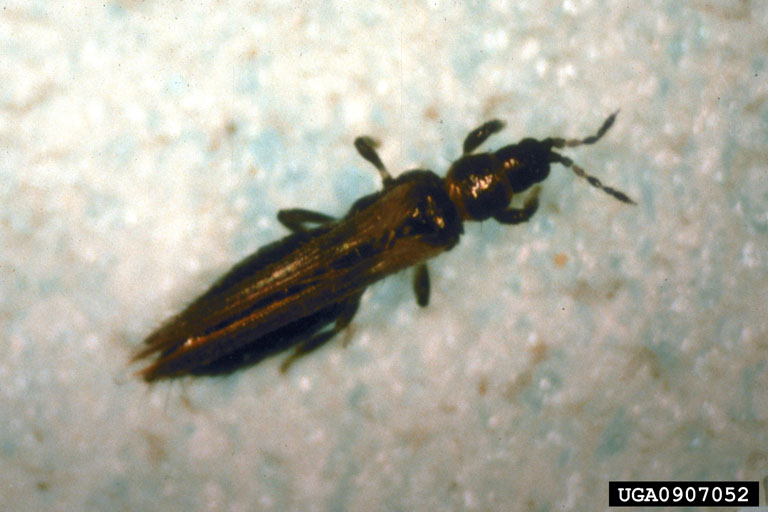Thrips: (105, 101, 650, 393)
